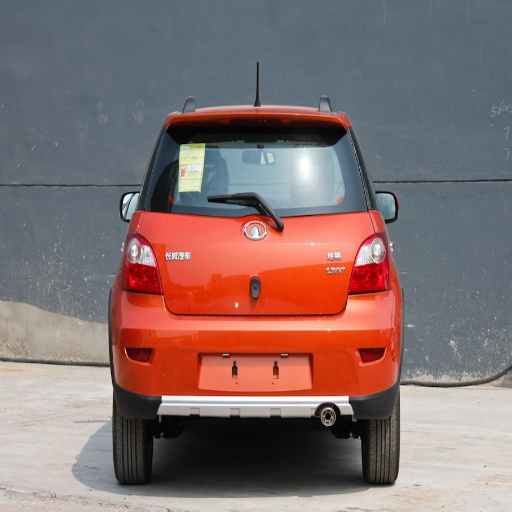back_bumper: (116, 290, 400, 415)
trunk: (142, 212, 371, 346)
